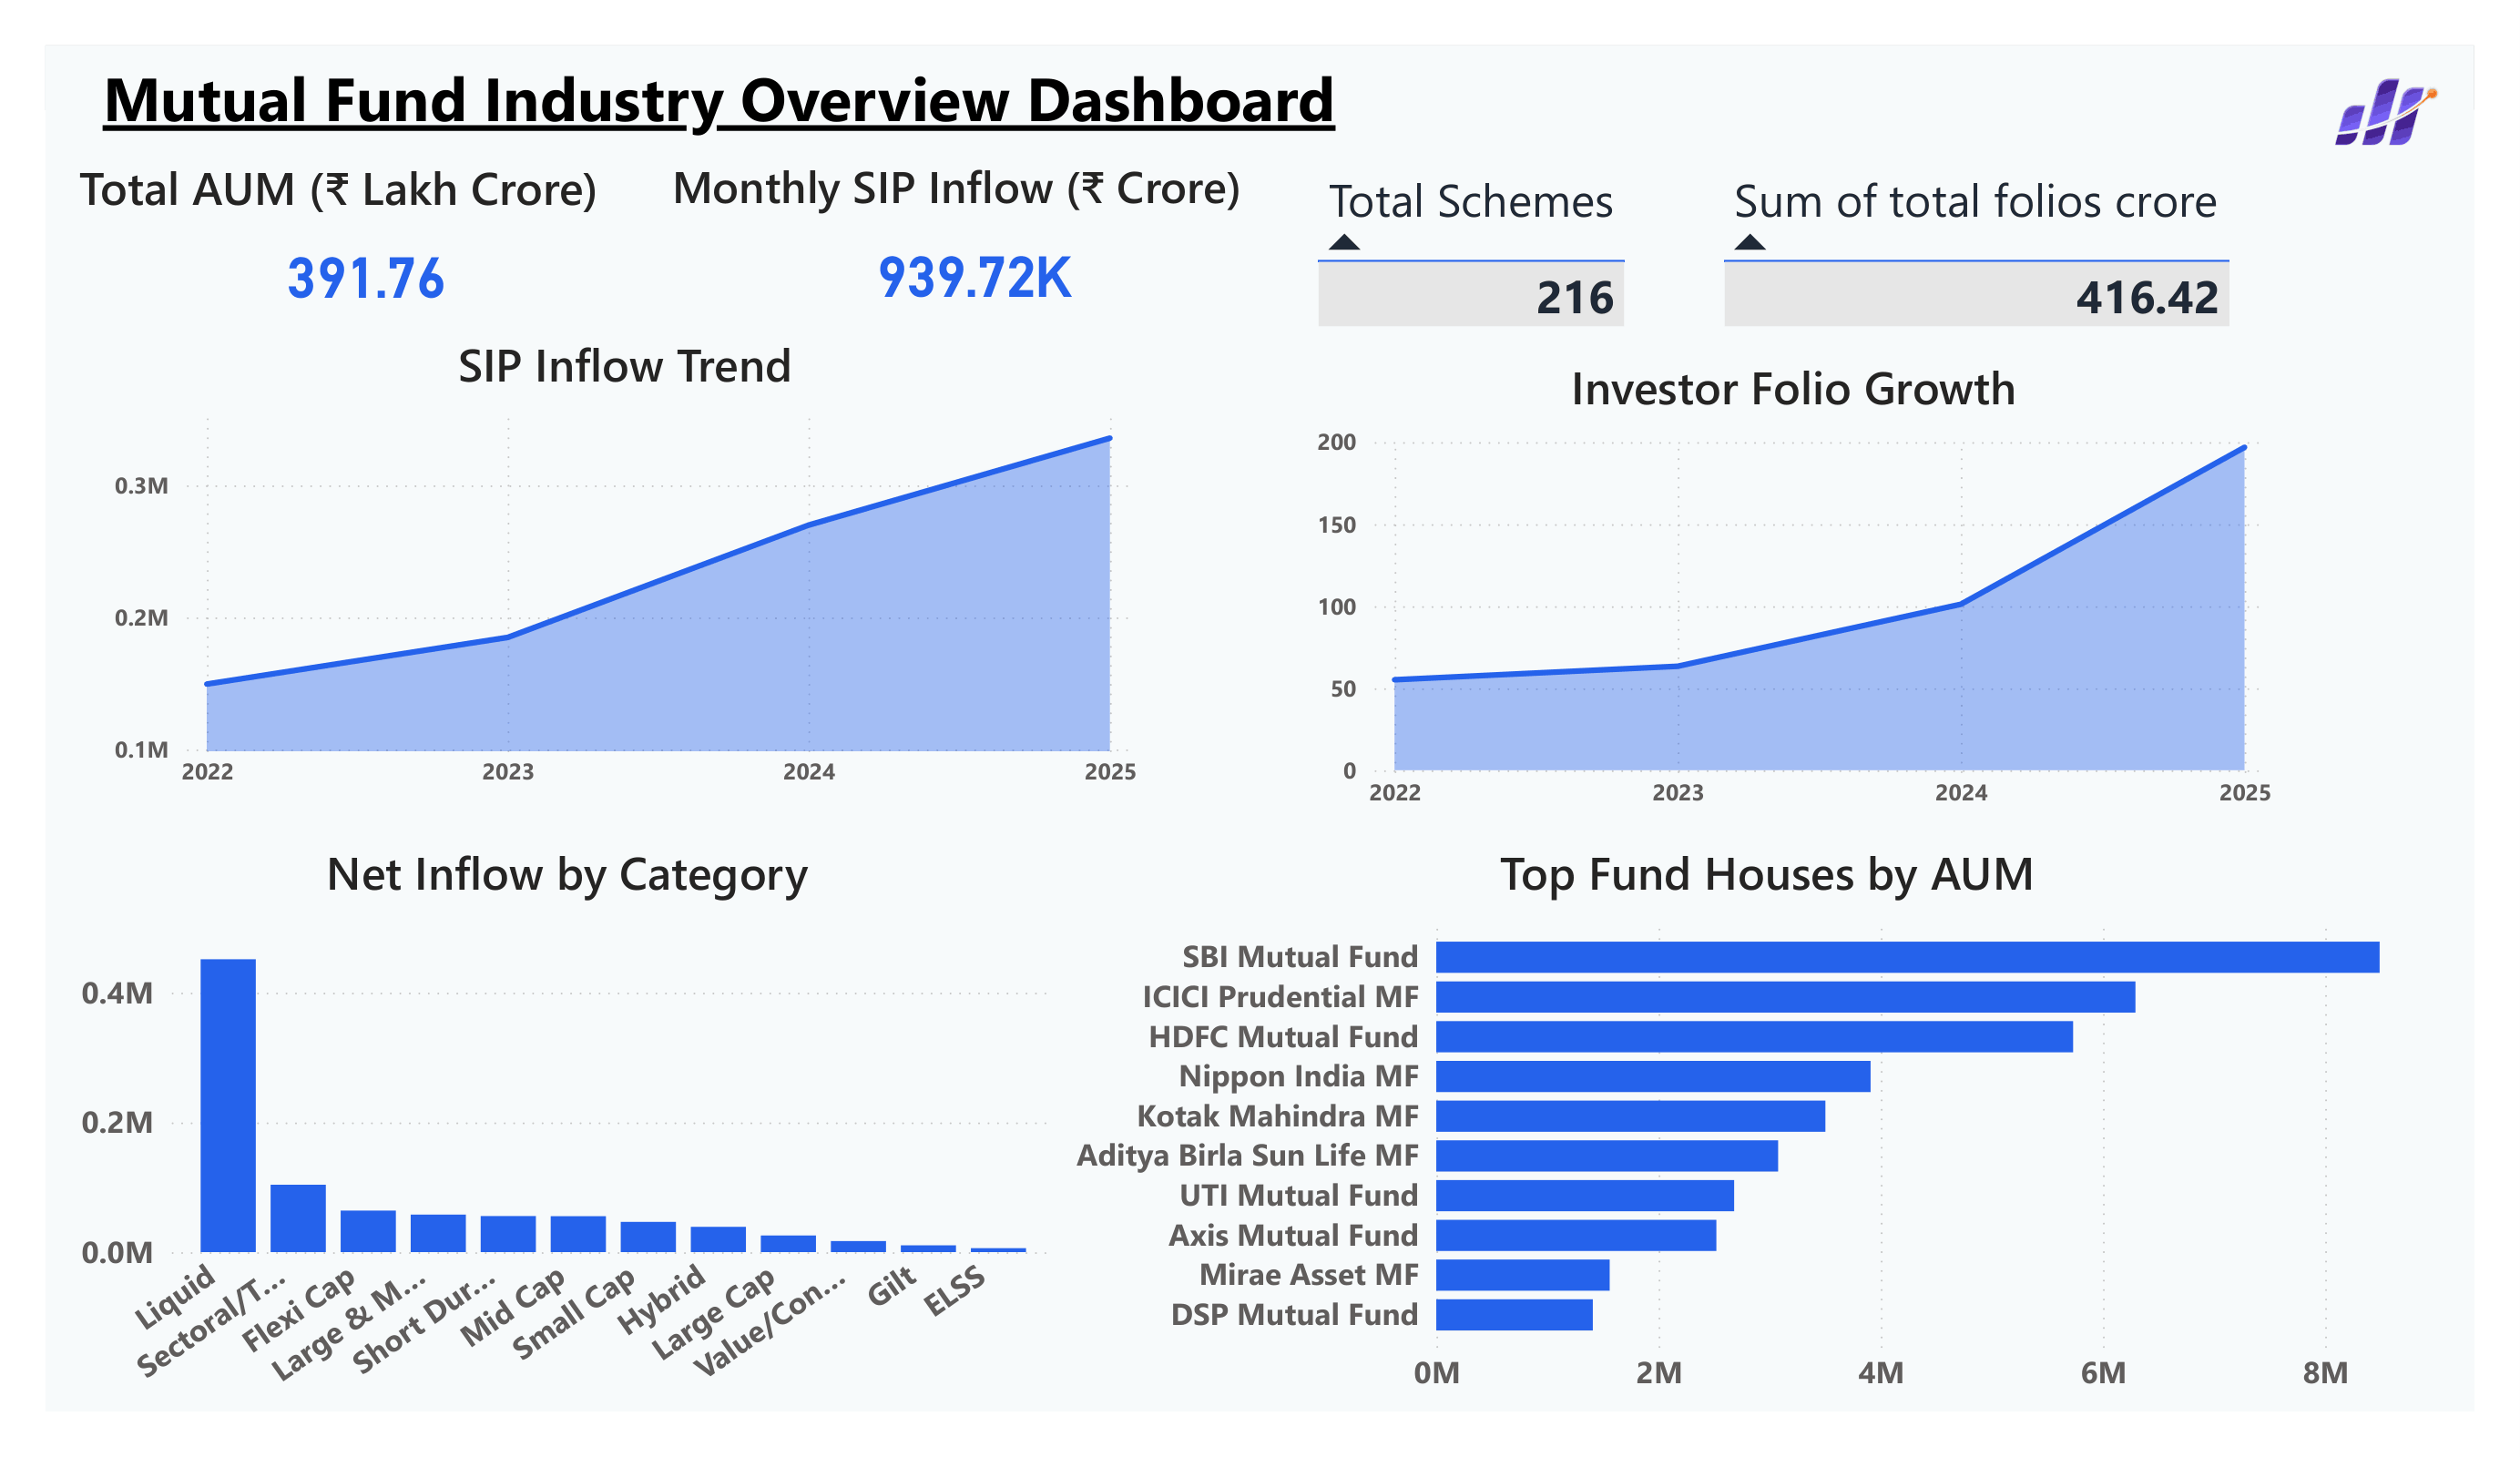

This screenshot's page, from the dashboard's own definition file:
{"tool":"powerbi","page":{"name":"Industry Overview","canvas":[1280,720],"ordinal":0},"visuals":[{"type":"card","title":"Total AUM (₹ Lakh Crore)","fields":{"Values":["03_aum_by_fund_house_clean.Total AUM"]},"box":[13.1,57.5,312.2,93.7],"z":0},{"type":"card","title":"Monthly SIP Inflow (₹ Crore)","fields":{"Values":["04_monthly_sip_inflows_clean.Total SIP Inflow"]},"box":[325.3,57.5,328.6,93.7],"z":1000},{"type":"tableEx","title":"Total Folios (Crore)","fields":{"Values":["Sum(06_industry_folio_count_clean.total_folios_crore)"]},"box":[879.1,57.5,307.3,105.2],"z":2000},{"type":"tableEx","title":"Total Schemes","fields":{"Values":["03_aum_by_fund_house_clean.Total Schemes"]},"box":[665.5,57.5,239.9,105.2],"z":3000},{"type":"clusteredBarChart","title":"Top Fund Houses by AUM","fields":{"Category":["03_aum_by_fund_house_clean.fund_house"],"Y":["Sum(03_aum_by_fund_house_clean.aum_crore)"]},"box":[537.3,419,741.1,300.7],"z":4000},{"type":"lineChart","title":"SIP Inflow Trend","fields":{"Category":["04_monthly_sip_inflows_clean.month.Variation.Date Hierarchy.Year","04_monthly_sip_inflows_clean.month.Variation.Date Hierarchy.Quarter","04_monthly_sip_inflows_clean.month.Variation.Date Hierarchy.Month","04_monthly_sip_inflows_clean.month.Variation.Date Hierarchy.Day"],"Y":["Sum(04_monthly_sip_inflows_clean.sip_inflow_crore)"]},"box":[31.2,151.2,548.8,249.8],"z":5000},{"type":"areaChart","title":"Investor Folio Growth","fields":{"Category":["06_industry_folio_count_clean.month.Variation.Date Hierarchy.Year","06_industry_folio_count_clean.month.Variation.Date Hierarchy.Quarter","06_industry_folio_count_clean.month.Variation.Date Hierarchy.Month","06_industry_folio_count_clean.month.Variation.Date Hierarchy.Day"],"Y":["Sum(06_industry_folio_count_clean.total_folios_crore)"]},"box":[665.5,162.7,512.7,249.8],"z":6000},{"type":"clusteredColumnChart","title":"Net Inflow by Category","fields":{"Category":["05_category_inflows_clean.category"],"Y":["Sum(05_category_inflows_clean.net_inflow_crore)"]},"box":[13.1,419,524.2,300.7],"z":7000},{"type":"textbox","box":[0,0,709.8,57.5],"z":8000},{"type":"image","box":[1186.3,0,93.7,70.7],"z":9000}]}

Visuals, with their boxes on the page's 1280x720 design canvas (x1, y1, x2, y2). These are canvas units, not pixel positions in the 2520x1457 screenshot, which may show the page scaled, cropped or inside an application window:
"Total AUM (₹ Lakh Crore)" card: (x1=13, y1=58, x2=325, y2=151)
"Monthly SIP Inflow (₹ Crore)" card: (x1=325, y1=58, x2=654, y2=151)
"Total Folios (Crore)" tableEx: (x1=879, y1=58, x2=1186, y2=163)
"Total Schemes" tableEx: (x1=666, y1=58, x2=905, y2=163)
"Top Fund Houses by AUM" clusteredBarChart: (x1=537, y1=419, x2=1278, y2=720)
"SIP Inflow Trend" lineChart: (x1=31, y1=151, x2=580, y2=401)
"Investor Folio Growth" areaChart: (x1=666, y1=163, x2=1178, y2=412)
"Net Inflow by Category" clusteredColumnChart: (x1=13, y1=419, x2=537, y2=720)
textbox: (x1=0, y1=0, x2=710, y2=58)
image: (x1=1186, y1=0, x2=1280, y2=71)
